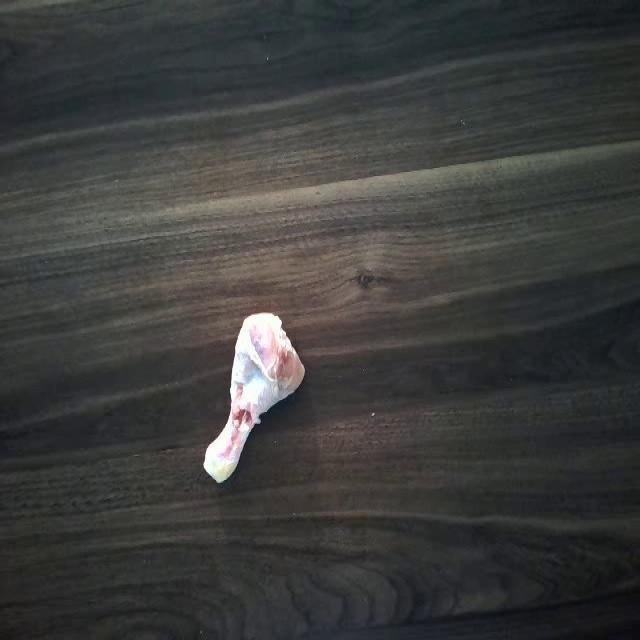leg: (206, 306, 308, 499)
